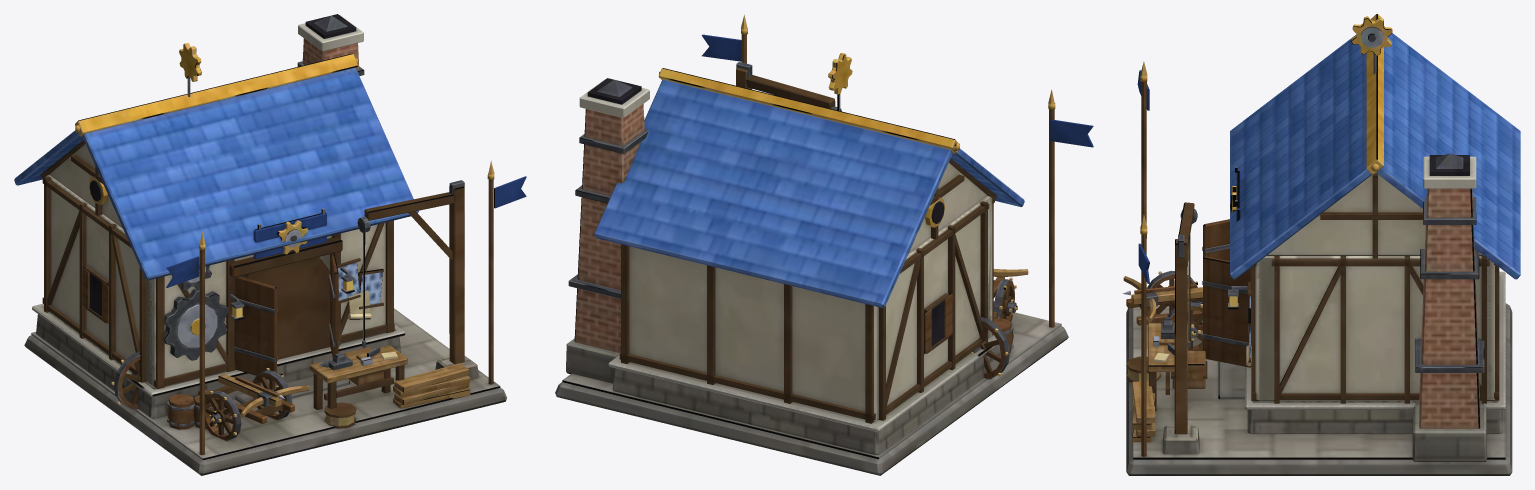
Rendered from workshop.glb.
3 renders of one model, left to right at view 1: azimuth 30°, elevation 25°; view 2: azimuth 150°, elevation 25°; view 3: azimuth 270°, elevation 25°, orthographic. The views are drawn at different scales.
Parts seen in each view (by area): view 1: Static_Mesh, Anim_Banners; view 2: Static_Mesh, Anim_Banners; view 3: Static_Mesh, Anim_Banners.
Part boxes in pixels (x1,y1,x2,y2): Static_Mesh: [14, 14, 506, 475]; Anim_Banners: [166, 176, 526, 287]; Static_Mesh: [555, 14, 1068, 475]; Anim_Banners: [701, 34, 1093, 147]; Static_Mesh: [1122, 14, 1520, 475]; Anim_Banners: [1137, 70, 1240, 283].
Size of the model in its own units: 8.56 by 7.29 by 7.49.
Materials: 2 (2 with a texture image).
